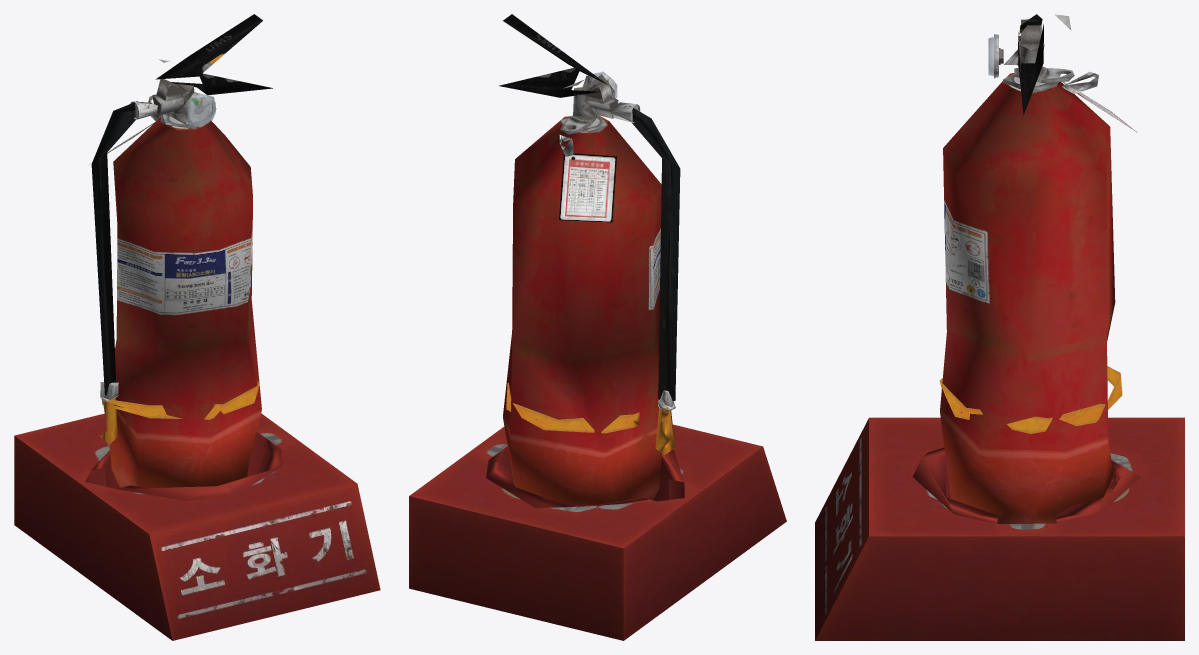
Rendered from korean_fire_extinguisher_01.glb.
The picture shows the model from 3 angles, left to right: view 1: azimuth 30°, elevation 25°; view 2: azimuth 150°, elevation 25°; view 3: azimuth 270°, elevation 25°; orthographic projection. The views are drawn at different scales.
Parts seen in each view (by area): view 1: korean_fire_extinguisher_01; view 2: korean_fire_extinguisher_01; view 3: korean_fire_extinguisher_01.
Boxes of the visible parts, box(x1,y1,x2,y2) form: korean_fire_extinguisher_01: box(14, 14, 380, 640); korean_fire_extinguisher_01: box(409, 14, 786, 640); korean_fire_extinguisher_01: box(815, 14, 1184, 640).
Bounding box in the file's own units: 0.279 × 0.6567 × 0.3675.
Materials: 3 (3 with a texture image).
